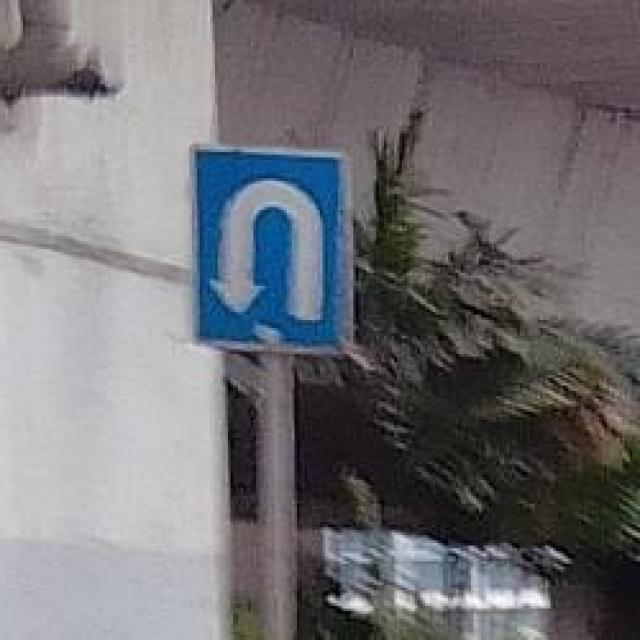U-turn: (192, 142, 347, 348)
